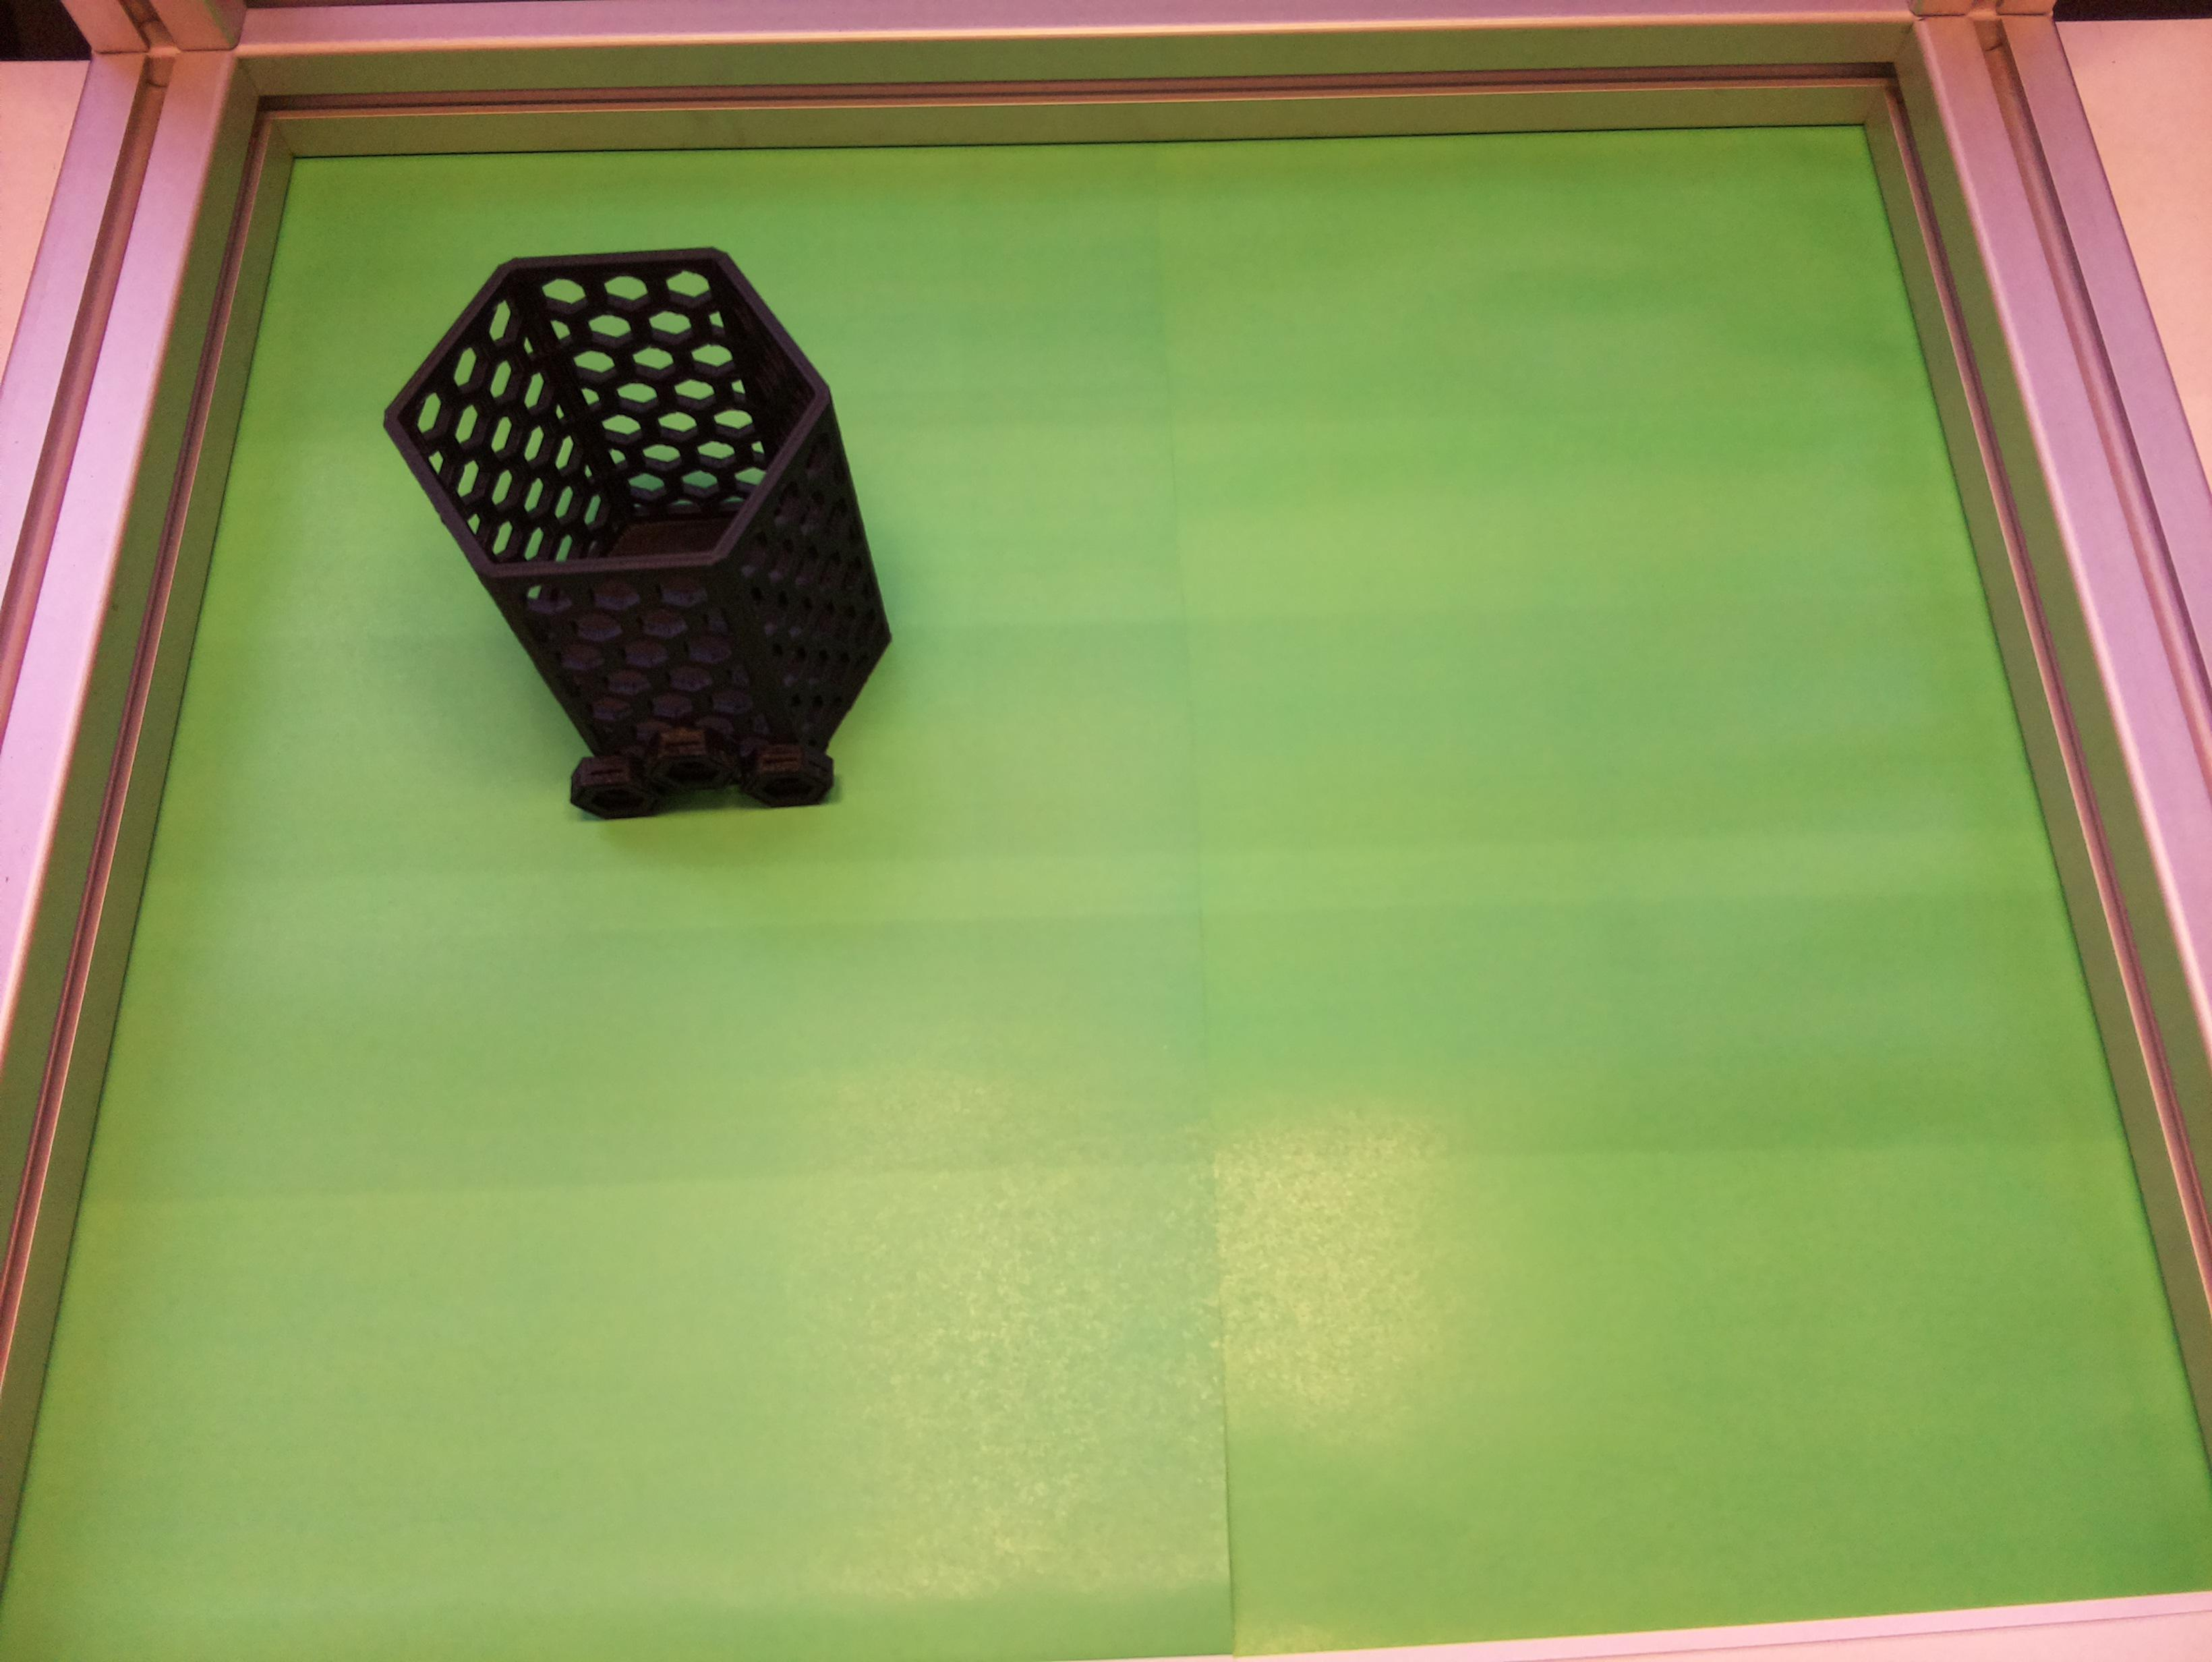cup_holder: (344, 159, 992, 899)
